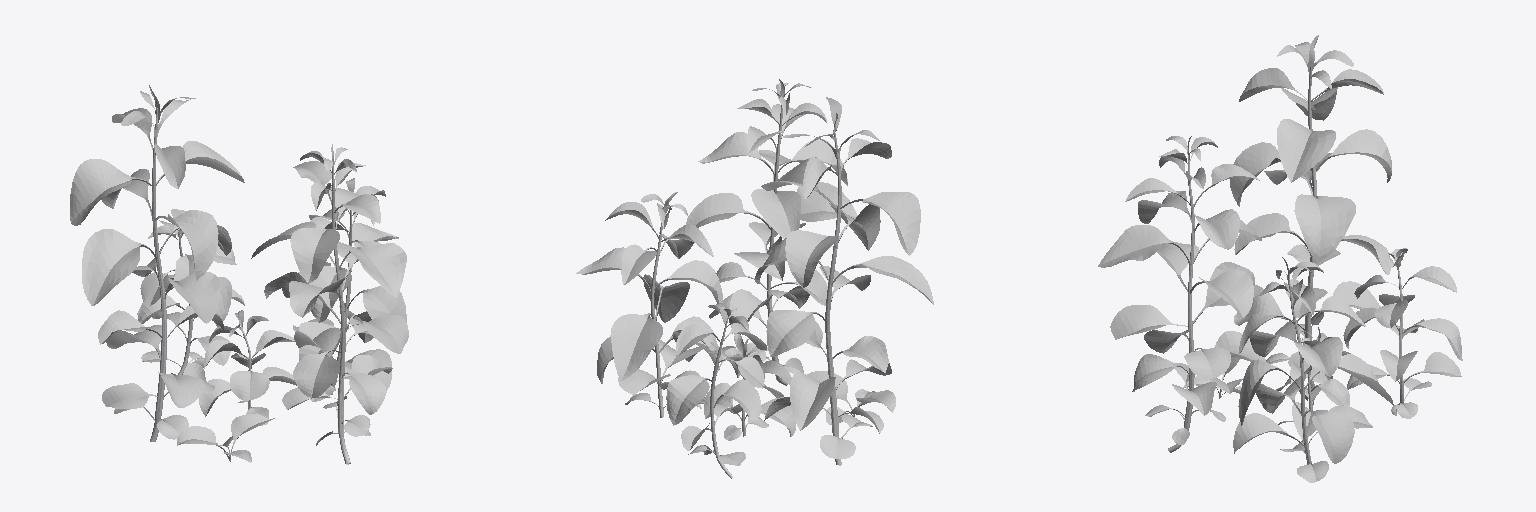
File: nettle_plant_1k.obj
3 views of the same model, side by side, from view 1: azimuth 30°, elevation 25°; view 2: azimuth 150°, elevation 25°; view 3: azimuth 270°, elevation 25° (orthographic).
Visible parts, largest first — view 1: nettle_plant_tall_a_LOD0, nettle_plant_tall_b_LOD0, nettle_plant_medium_a_LOD0, nettle_plant_medium_b_LOD0, nettle_plant_small_a_LOD0, nettle_plant_small_b_LOD0; view 2: nettle_plant_tall_a_LOD0, nettle_plant_tall_b_LOD0, nettle_plant_medium_a_LOD0, nettle_plant_medium_b_LOD0, nettle_plant_small_a_LOD0, nettle_plant_small_b_LOD0; view 3: nettle_plant_tall_a_LOD0, nettle_plant_tall_b_LOD0, nettle_plant_medium_a_LOD0, nettle_plant_medium_b_LOD0, nettle_plant_small_a_LOD0, nettle_plant_small_b_LOD0.
Part boxes in pixels (x1,y1,x2,y2): nettle_plant_tall_a_LOD0: (70, 85, 244, 441); nettle_plant_tall_b_LOD0: (251, 144, 408, 464); nettle_plant_medium_a_LOD0: (282, 178, 406, 401); nettle_plant_medium_b_LOD0: (137, 220, 244, 374); nettle_plant_small_a_LOD0: (199, 310, 296, 425); nettle_plant_small_b_LOD0: (177, 413, 274, 462); nettle_plant_tall_a_LOD0: (755, 97, 933, 465); nettle_plant_tall_b_LOD0: (686, 79, 857, 385); nettle_plant_medium_a_LOD0: (576, 192, 722, 417); nettle_plant_medium_b_LOD0: (660, 303, 766, 478); nettle_plant_small_a_LOD0: (697, 334, 795, 440); nettle_plant_small_b_LOD0: (807, 371, 895, 424); nettle_plant_tall_a_LOD0: (1230, 35, 1391, 387); nettle_plant_tall_b_LOD0: (1098, 136, 1265, 452); nettle_plant_medium_a_LOD0: (1233, 257, 1393, 482); nettle_plant_medium_b_LOD0: (1343, 248, 1462, 418); nettle_plant_small_a_LOD0: (1276, 327, 1349, 439); nettle_plant_small_b_LOD0: (1183, 357, 1243, 398).
Size of the model in its own units: 0.8545 by 0.8737 by 0.8107.